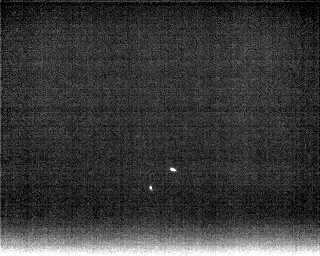BIRD: (168, 164, 179, 176)
